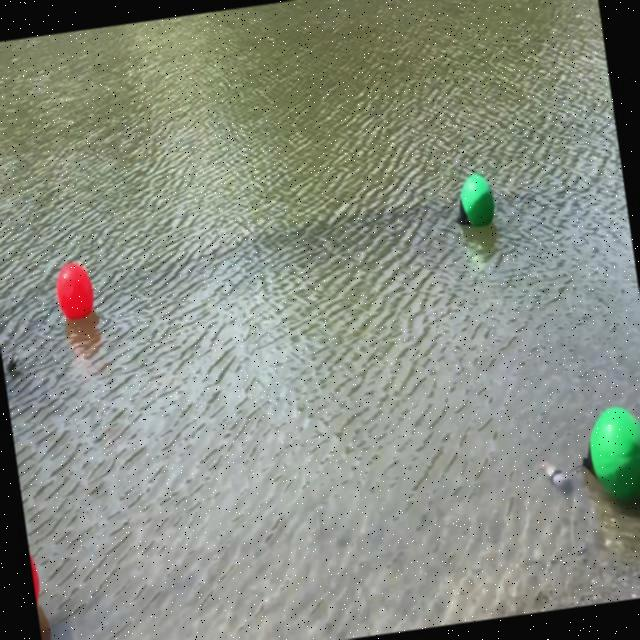buoy: (575, 402, 640, 510), (448, 169, 498, 235), (54, 260, 96, 323)
